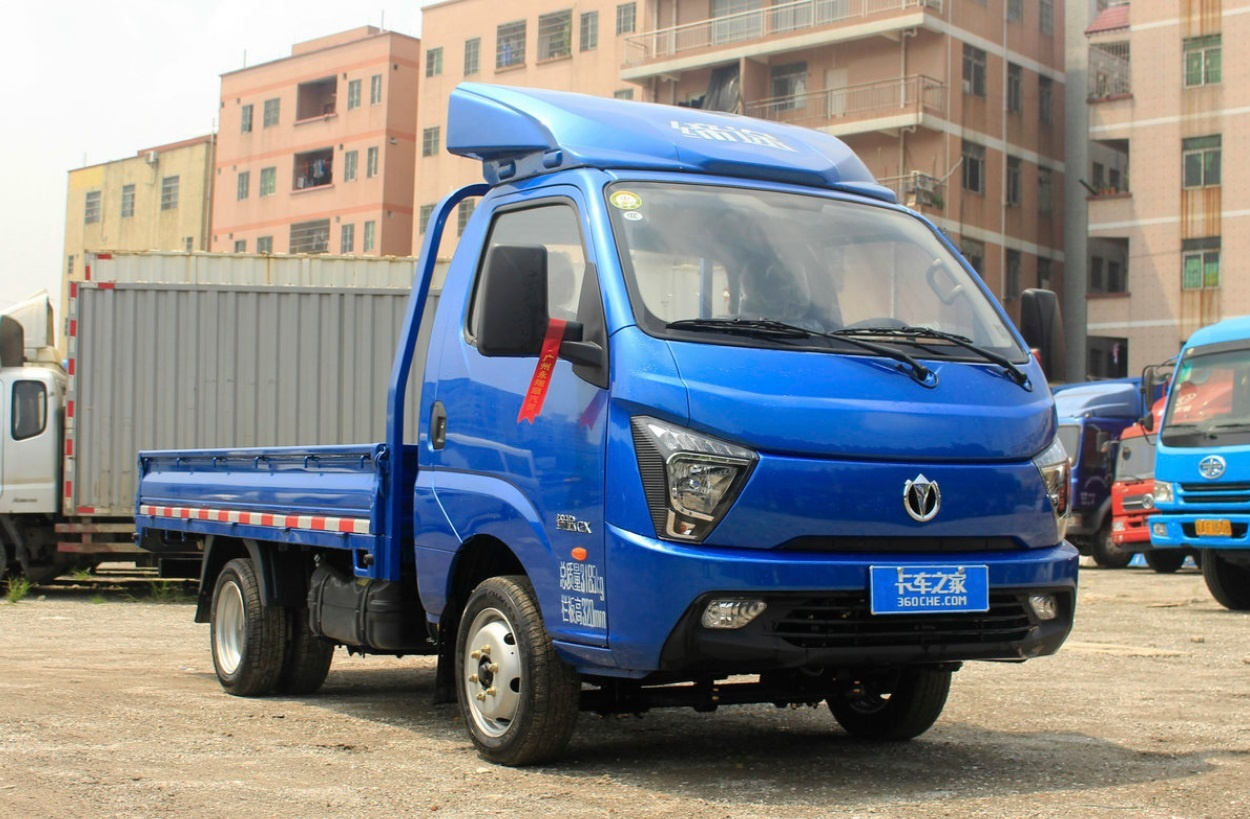truck: (127, 69, 1070, 782)
